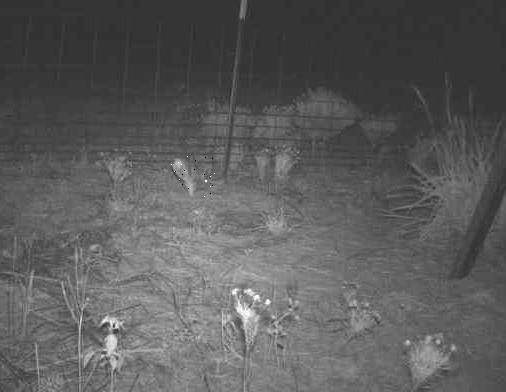Rabbit: (171, 154, 216, 197)
